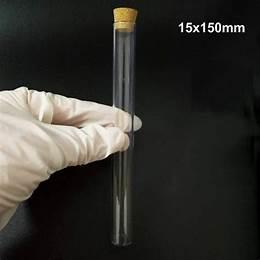Test tube: (102, 4, 147, 250)
